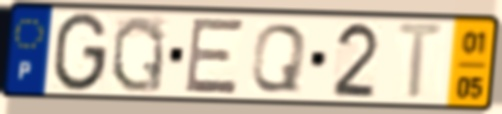2: (331, 19, 383, 101)
E: (181, 15, 248, 97)
G: (49, 11, 111, 95)
Q: (109, 13, 169, 95), (247, 21, 310, 96)
T: (393, 20, 450, 103)
